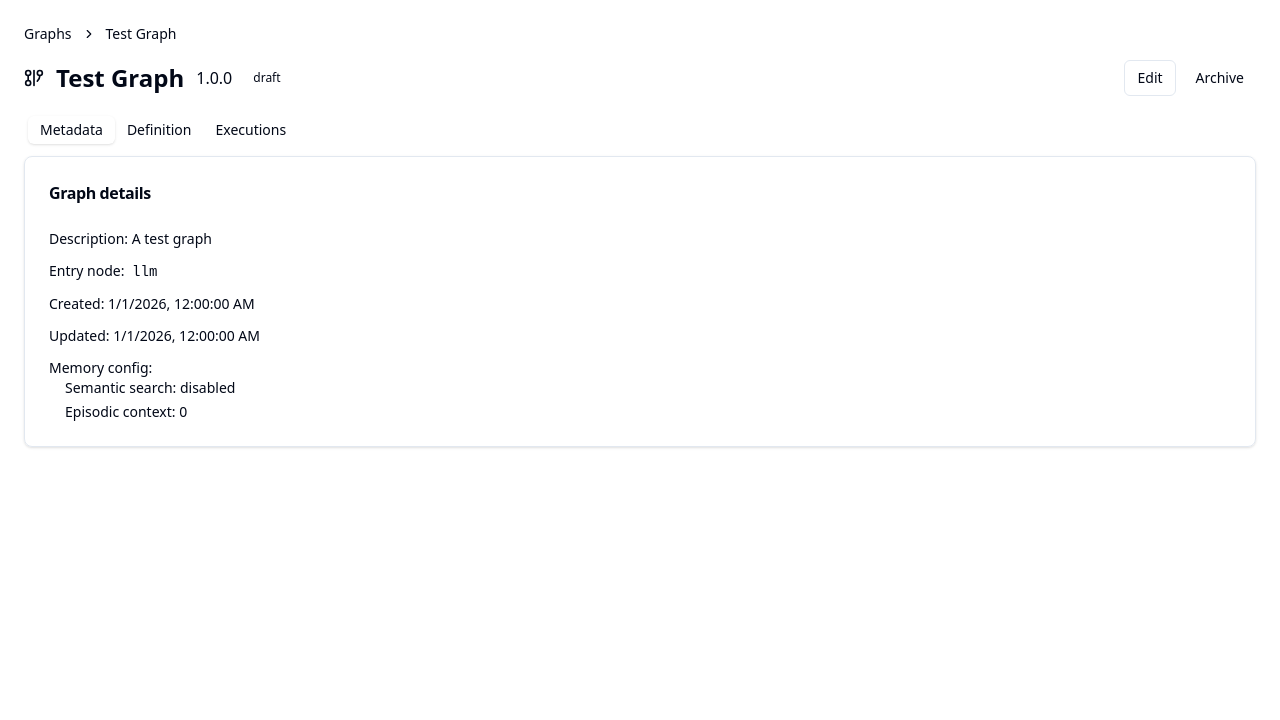
Scenario: GraphDetailPage › shows archive confirmation dialog
Click the button "Archive": (1220, 78) [1184,60,1256,96]
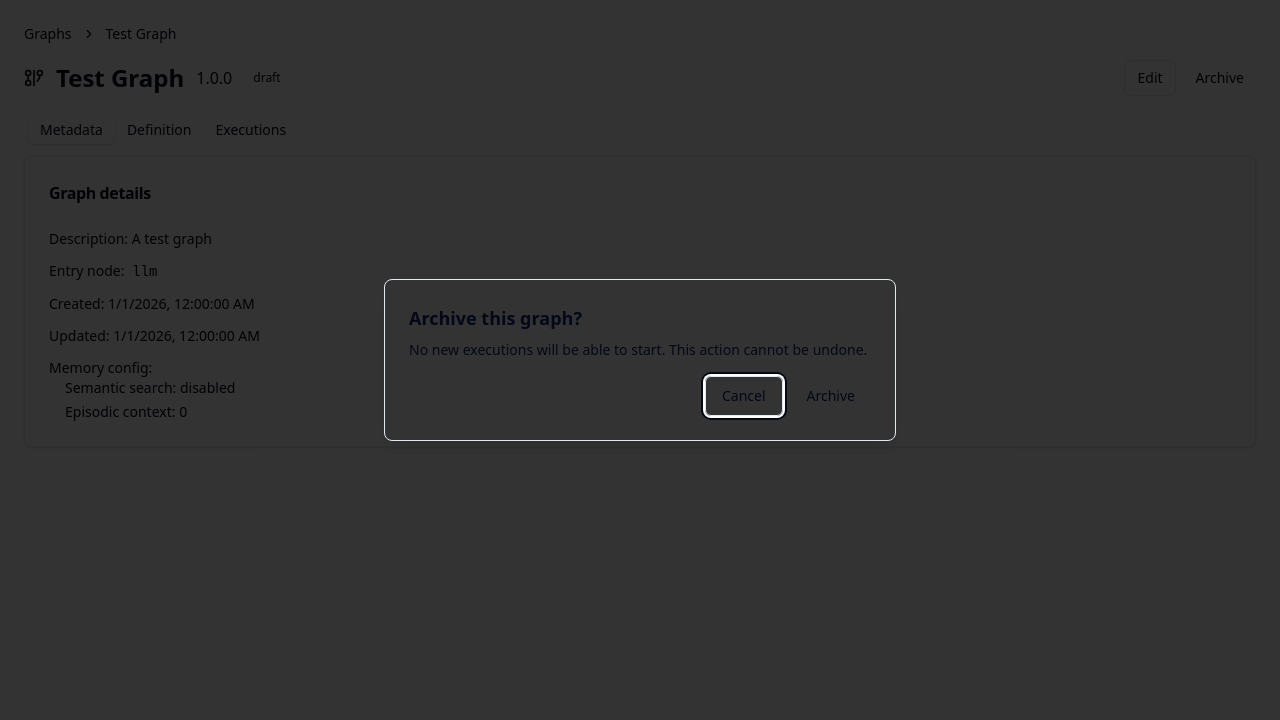
Expected: the dialog is shown, [384,279,896,441]
